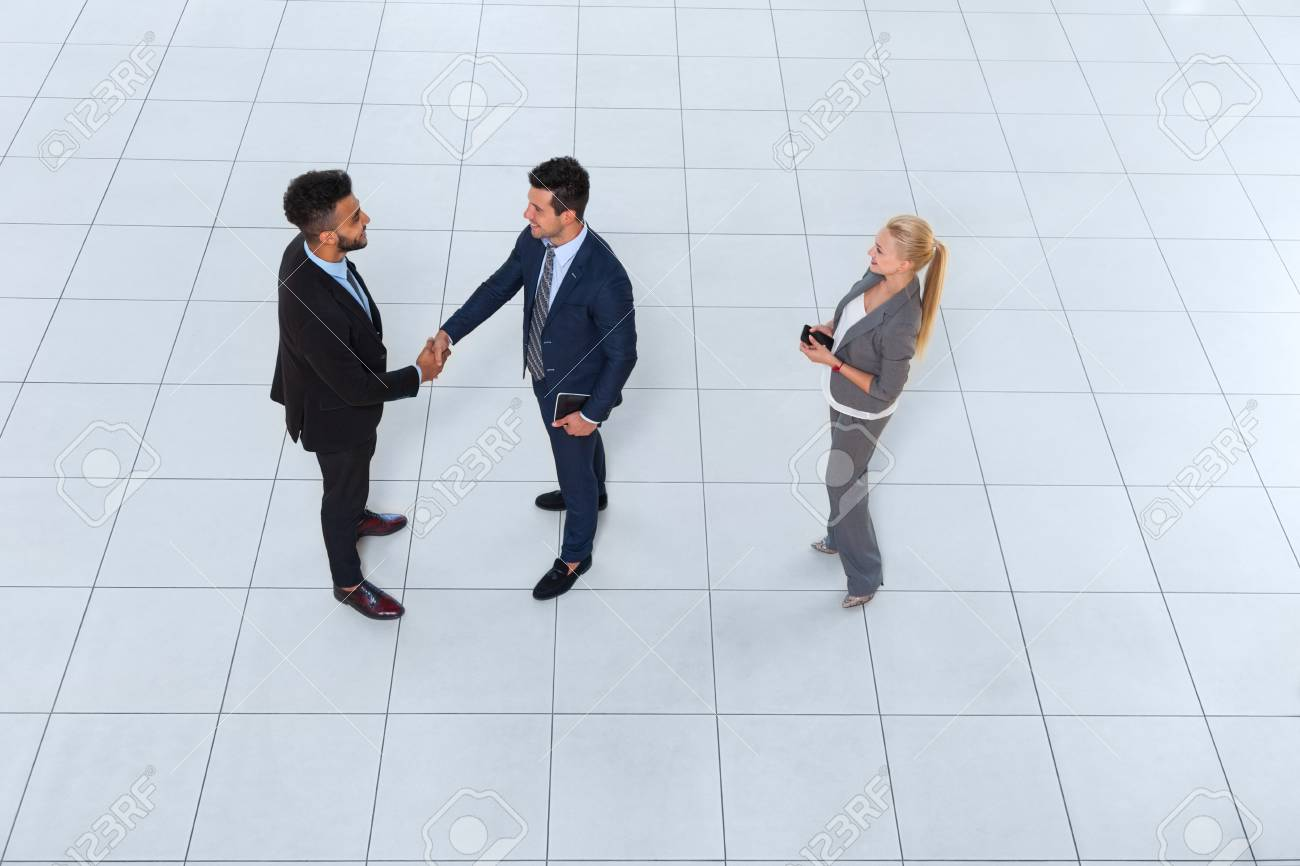Person: (437, 153, 649, 609), (257, 165, 442, 640), (791, 212, 957, 617)
